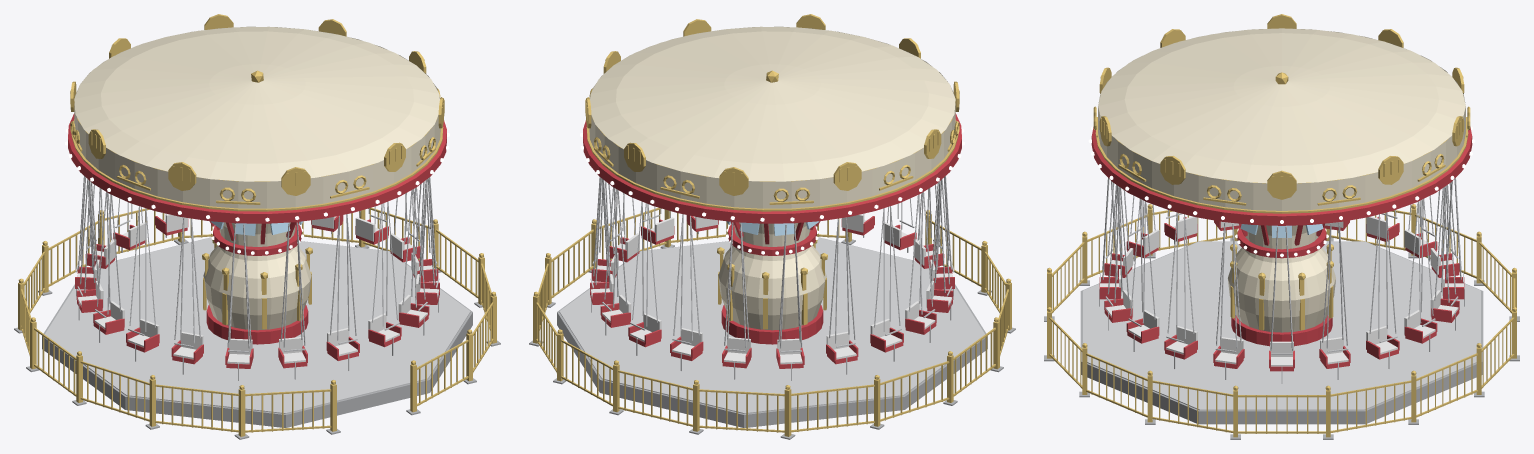
3 views of the same model, side by side, from view 1: azimuth 30°, elevation 25°; view 2: azimuth 150°, elevation 25°; view 3: azimuth 270°, elevation 25° (orthographic).
Visible parts, largest first — view 1: rotor, base, swing12, swing15, swing14, swing11, swing16, swing17, swing10, swing9, swing13, swing18 (+7 smaller); view 2: rotor, base, swing8, swing5, swing6, swing9, swing4, swing3, swing10, swing11, swing7, swing2 (+7 smaller); view 3: rotor, base, swing2, swing18, swing1, swing19, swing3, swing17, swing4, swing16, swing0, swing6 (+7 smaller).
Boxes of the visible parts, x1,y1,x2,y2 form: rotor: (65, 14, 449, 246); base: (14, 207, 500, 439); swing12: (171, 217, 203, 374); swing15: (326, 214, 359, 370); swing14: (278, 222, 307, 379); swing11: (126, 206, 159, 361); swing16: (368, 201, 401, 355); swing17: (398, 187, 429, 335); swing10: (93, 192, 124, 342); swing9: (76, 179, 103, 320); swing13: (225, 224, 253, 380); swing18: (415, 177, 439, 312); rotor: (580, 14, 964, 246); base: (529, 207, 1015, 439); swing8: (826, 217, 858, 374); swing5: (670, 214, 703, 370); swing6: (722, 222, 751, 379); swing9: (870, 206, 903, 361); swing4: (628, 201, 661, 355); swing3: (600, 187, 631, 335); swing10: (905, 192, 936, 342); swing11: (926, 179, 953, 320); swing7: (776, 224, 804, 380); swing2: (590, 177, 614, 312); rotor: (1088, 14, 1475, 249); base: (1044, 204, 1519, 439); swing2: (1366, 212, 1399, 368); swing18: (1164, 212, 1197, 368); swing1: (1319, 222, 1350, 379); swing19: (1213, 222, 1244, 379); swing3: (1404, 199, 1437, 351); swing17: (1126, 199, 1159, 351); swing4: (1430, 184, 1459, 330); swing16: (1104, 184, 1133, 330); swing0: (1269, 226, 1294, 383); swing6: (1430, 182, 1459, 277).
Bounding box in the file's own units: 9.83 × 6.09 × 9.83.
